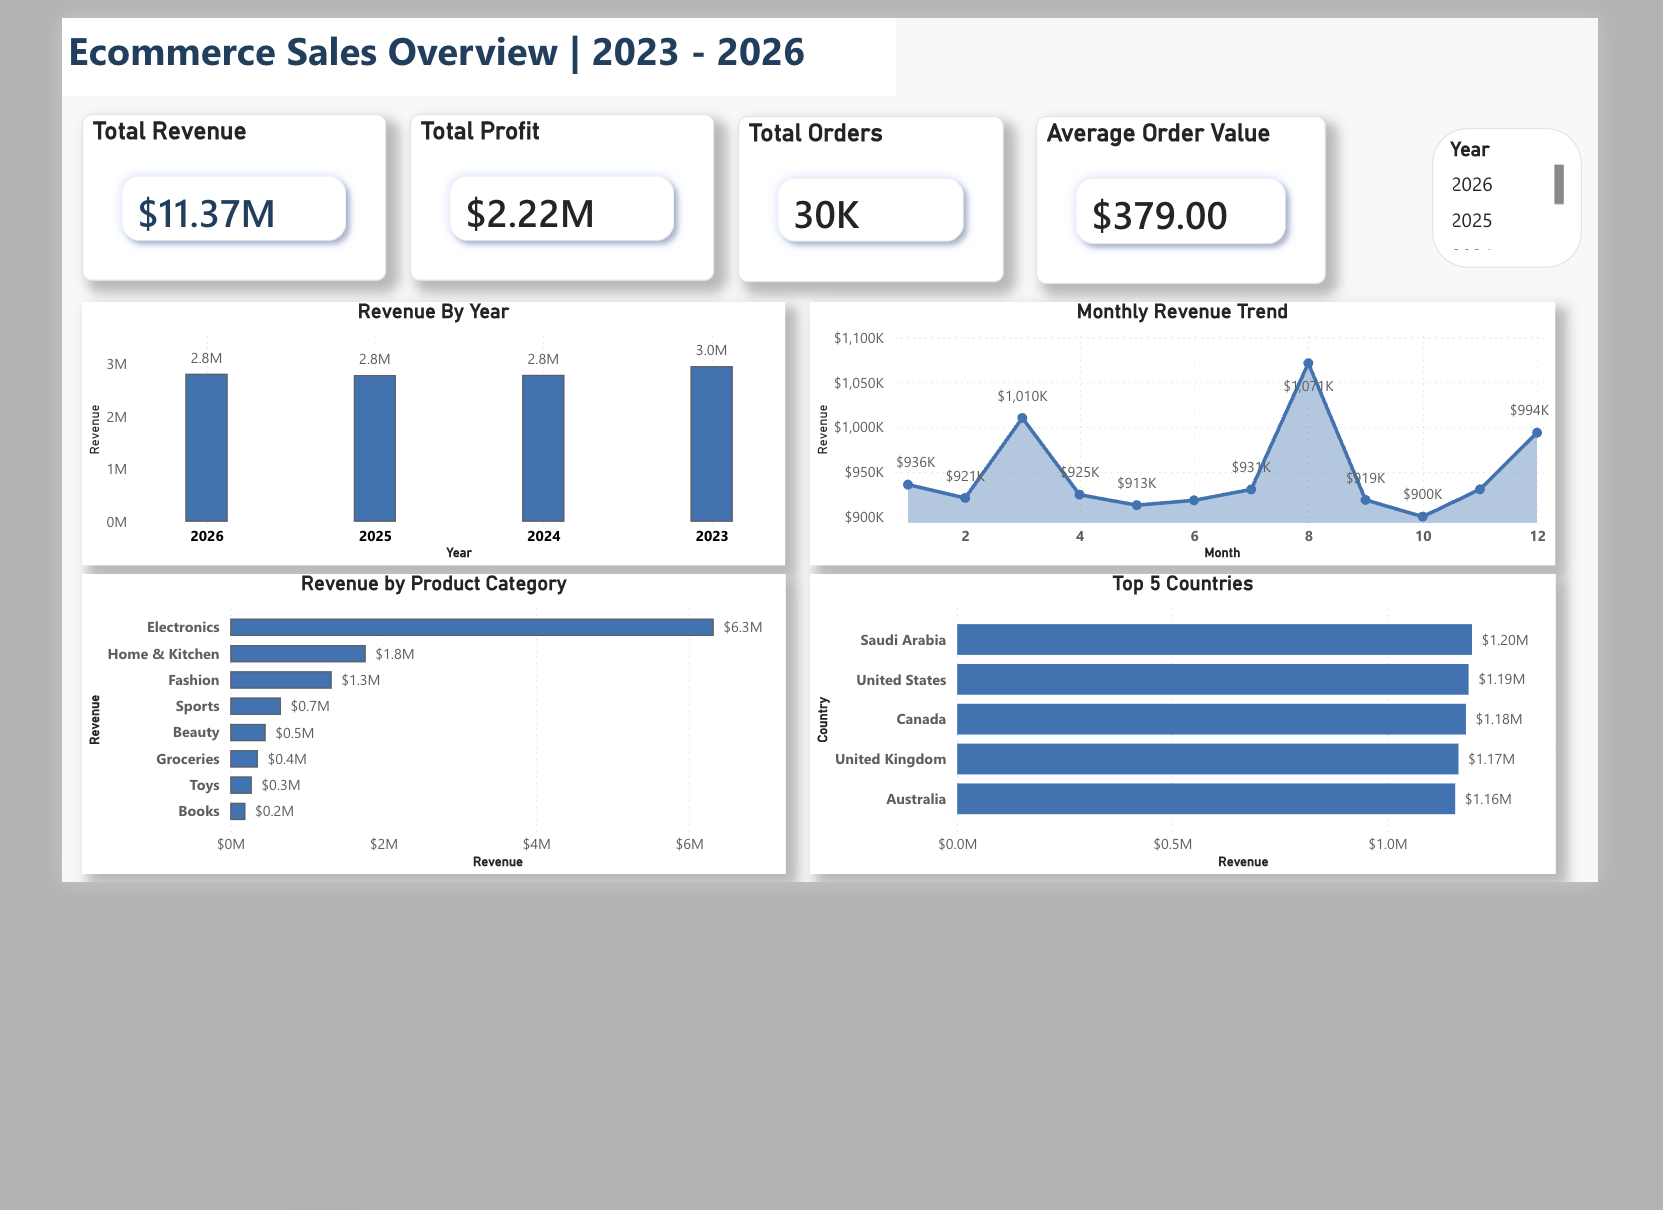

The page's visual inventory and layout, read from the dashboard file:
{"tool":"powerbi","page":{"name":"Page 1","canvas":[1280,720],"ordinal":0},"visuals":[{"type":"cardVisual","title":"Total Revenue","fields":{"Data":["Sum(ecommerce_orders.Order_Amount)"]},"box":[16.7,80,253.3,138.8],"z":0},{"type":"cardVisual","title":"Total Profit","fields":{"Data":["Sum(ecommerce_orders.Profit_Amount)"]},"box":[290,80,253.3,138.8],"z":1000},{"type":"cardVisual","title":"Total Orders","fields":{"Data":["CountNonNull(ecommerce_orders.Order_ID)"]},"box":[563.3,81.7,221.7,138.3],"z":2000},{"type":"cardVisual","title":"Average Order Value","fields":{"Data":["Avg(ecommerce_orders.Order_Amount)"]},"box":[811.7,81.7,241.7,140],"z":3000},{"type":"clusteredColumnChart","title":"Revenue By Year","fields":{"Category":["ecommerce_orders.Year"],"Y":["Sum(ecommerce_orders.Order_Amount)"]},"box":[16.7,236.7,585.8,219.7],"z":4000},{"type":"lineChart","title":"Monthly Revenue Trend","fields":{"Category":["ecommerce_orders.Month"],"Y":["Sum(ecommerce_orders.Order_Amount)"]},"box":[623.3,236.7,620.9,219.7],"z":5000},{"type":"clusteredBarChart","title":"Revenue by Product Category","fields":{"Category":["ecommerce_orders.Product_Category"],"Y":["Sum(ecommerce_orders.Order_Amount)"]},"box":[16.7,463.3,586.7,250],"z":6000},{"type":"clusteredBarChart","title":"Top 5 Countries","fields":{"Category":["ecommerce_orders.Country"],"Y":["Sum(ecommerce_orders.Order_Amount)"]},"box":[623.3,463.3,621.7,250],"z":7000},{"type":"textbox","box":[0,0,695,65],"z":8000},{"type":"listSlicer","fields":{"Values":["ecommerce_orders.Year"]},"box":[1141.7,91.7,125,116.7],"z":9000}]}

Visuals, with their boxes on the page's 1280x720 design canvas (x1, y1, x2, y2). These are canvas units, not pixel positions in the 1663x1210 screenshot, which may show the page scaled, cropped or inside an application window:
"Total Revenue" cardVisual: BBox(17, 80, 270, 219)
"Total Profit" cardVisual: BBox(290, 80, 543, 219)
"Total Orders" cardVisual: BBox(563, 82, 785, 220)
"Average Order Value" cardVisual: BBox(812, 82, 1053, 222)
"Revenue By Year" clusteredColumnChart: BBox(17, 237, 602, 456)
"Monthly Revenue Trend" lineChart: BBox(623, 237, 1244, 456)
"Revenue by Product Category" clusteredBarChart: BBox(17, 463, 603, 713)
"Top 5 Countries" clusteredBarChart: BBox(623, 463, 1245, 713)
textbox: BBox(0, 0, 695, 65)
listSlicer - ecommerce_orders.Year: BBox(1142, 92, 1267, 208)
